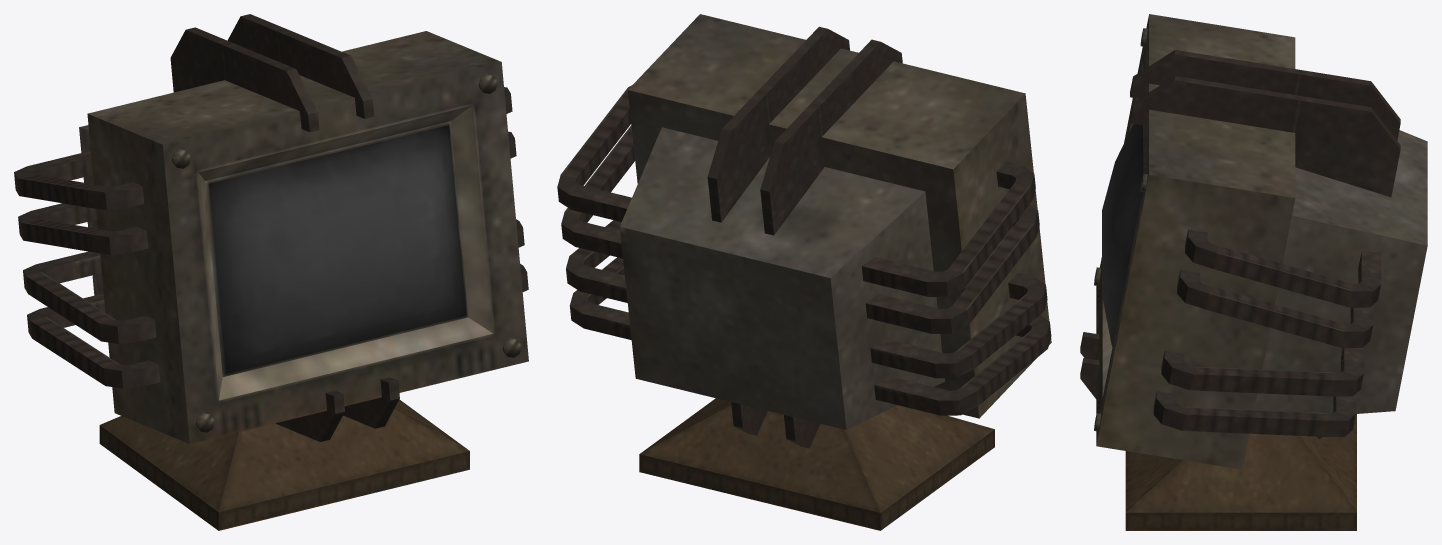
Rendered from screen_etx_1_stand.obj.
3 views of the same model, side by side, from view 1: azimuth 30°, elevation 25°; view 2: azimuth 150°, elevation 25°; view 3: azimuth 270°, elevation 25° (orthographic). The views are drawn at different scales.
Visible parts, largest first — view 1: screen_etx_1_whole, screen_etx_1_whole_round_screen, screen_etx_1_stand; view 2: screen_etx_1_whole, screen_etx_1_stand; view 3: screen_etx_1_whole, screen_etx_1_stand, screen_etx_1_whole_round_screen.
Part boxes in pixels (x1,y1,x2,y2): screen_etx_1_whole: [14, 14, 528, 443]; screen_etx_1_whole_round_screen: [205, 121, 468, 376]; screen_etx_1_stand: [99, 399, 469, 530]; screen_etx_1_whole: [557, 14, 1051, 448]; screen_etx_1_stand: [639, 398, 994, 530]; screen_etx_1_whole: [1080, 14, 1427, 469]; screen_etx_1_stand: [1125, 414, 1356, 530]; screen_etx_1_whole_round_screen: [1102, 124, 1142, 346].
Size of the model in its own units: 0.468 by 0.4455 by 0.3454.
